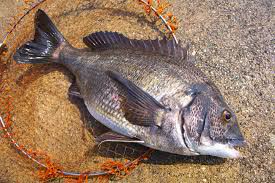kurodai: (21, 12, 246, 166)
